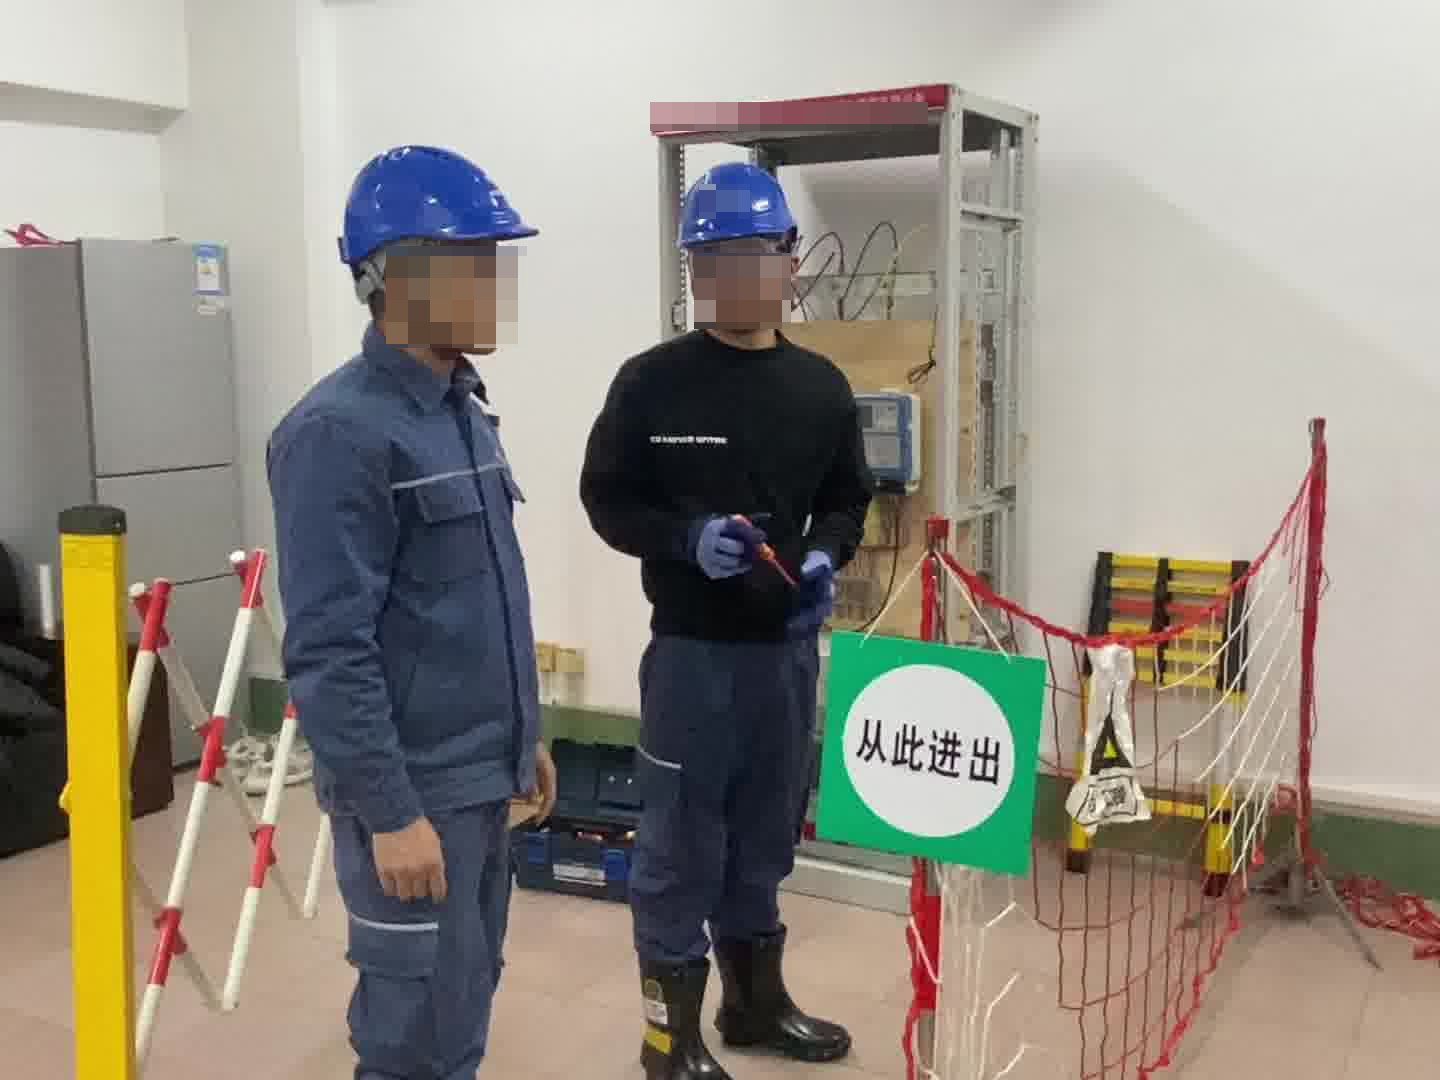downsuit: (631, 645, 823, 961), (322, 819, 524, 1080)
glove: (687, 512, 765, 577), (795, 547, 833, 613)
halt: (336, 140, 540, 368), (672, 160, 808, 343)
hand: (368, 820, 453, 906), (510, 742, 573, 837)
inear: (363, 236, 442, 328)
intosign: (803, 617, 1052, 887)
person: (256, 131, 573, 1080), (584, 155, 870, 1080)
shoe: (708, 925, 852, 1060), (622, 948, 722, 1080)
upsuit: (271, 364, 550, 809)
